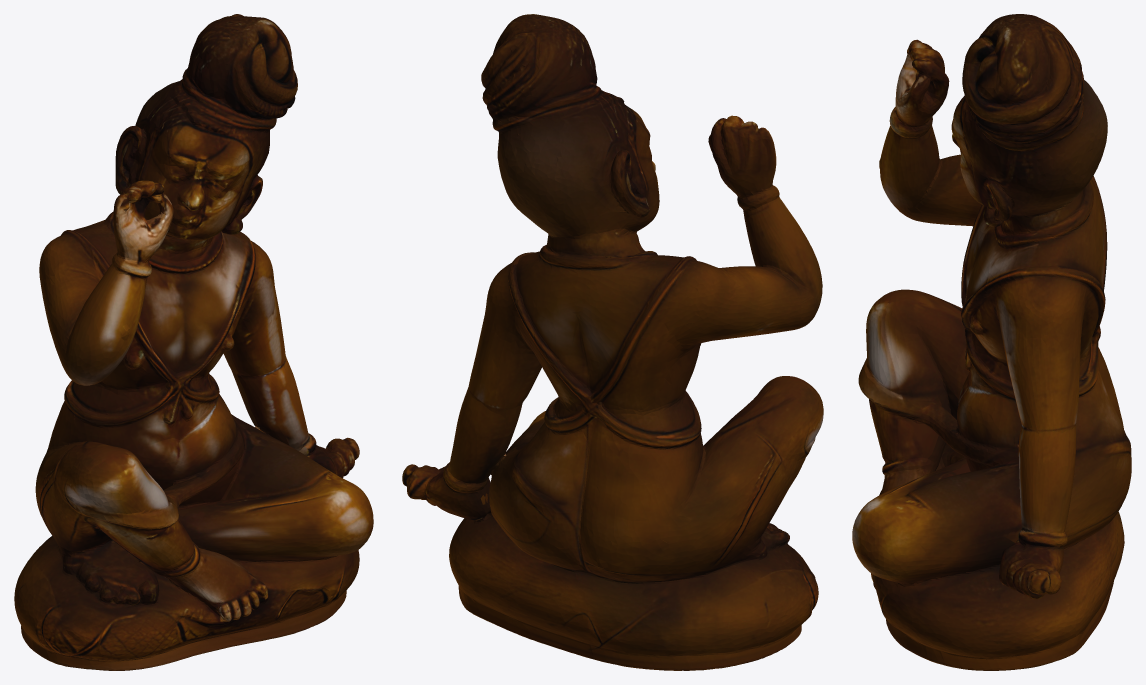
3 views of the same model, side by side, from view 1: azimuth 30°, elevation 25°; view 2: azimuth 150°, elevation 25°; view 3: azimuth 270°, elevation 25° (orthographic). The views are drawn at different scales.
Visible parts, largest first — view 1: textured_mesh; view 2: textured_mesh; view 3: textured_mesh.
Boxes of the visible parts, <box> form: textured_mesh: <box>14,14,373,670</box>; textured_mesh: <box>402,14,823,670</box>; textured_mesh: <box>852,14,1131,670</box>.
Size of the model in its own units: 1.32 by 1.99 by 0.8304.
1 material, 1 textured.
